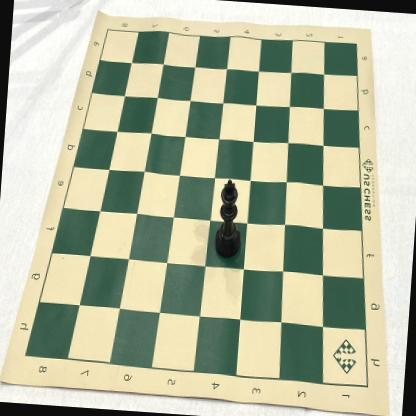black-king: (214, 178, 245, 260)
